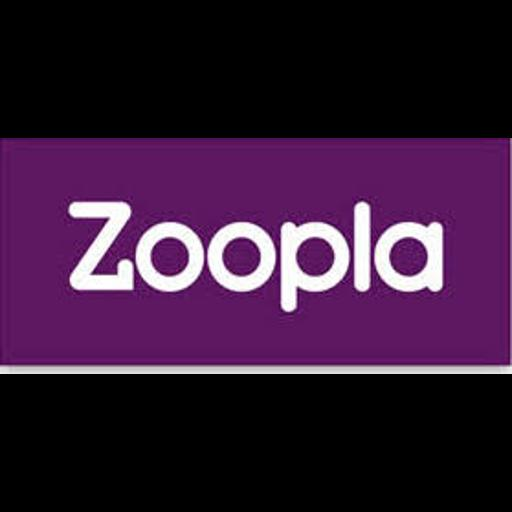Zoopla: (0, 138, 512, 374)
